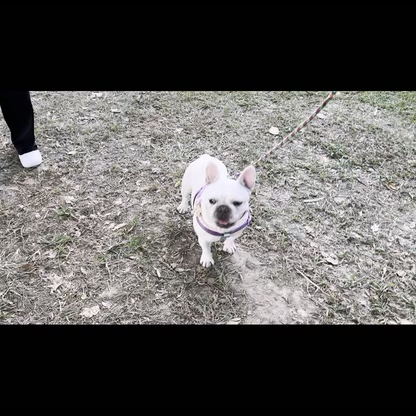bulldog: (173, 148, 259, 269)
